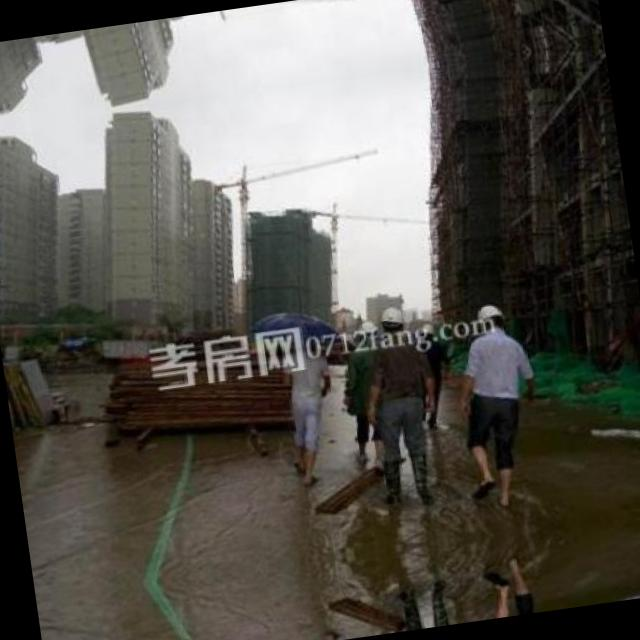helmet: (473, 300, 508, 339), (376, 301, 408, 341), (354, 314, 378, 347), (416, 319, 438, 346)
